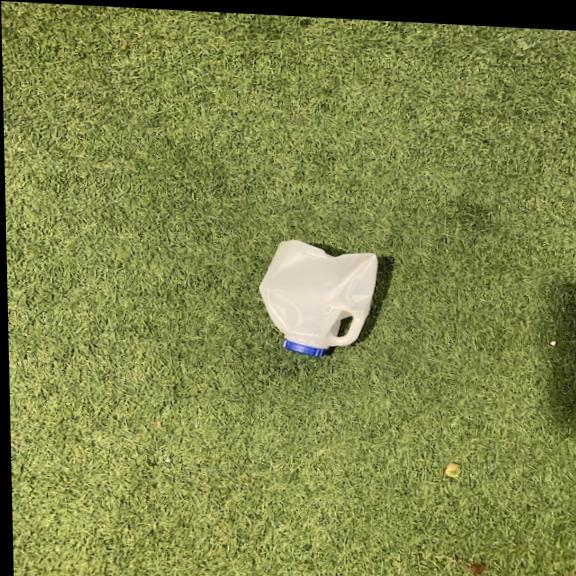Plastik: (244, 233, 387, 360)
